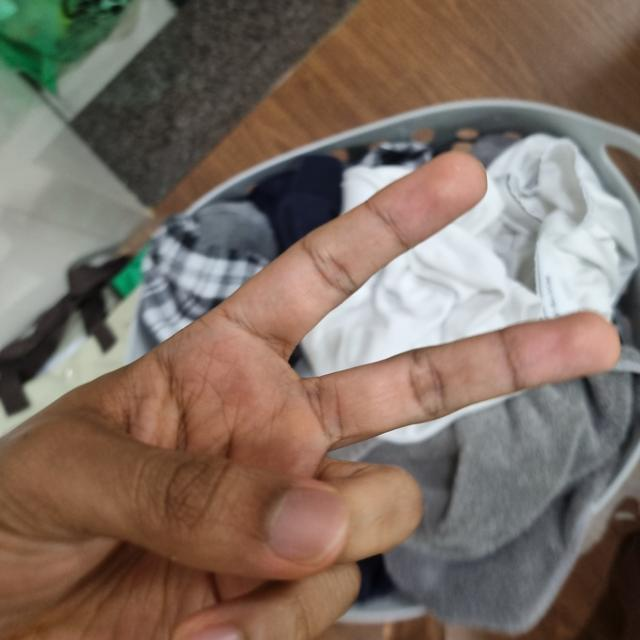Scissors: (17, 155, 611, 625)
